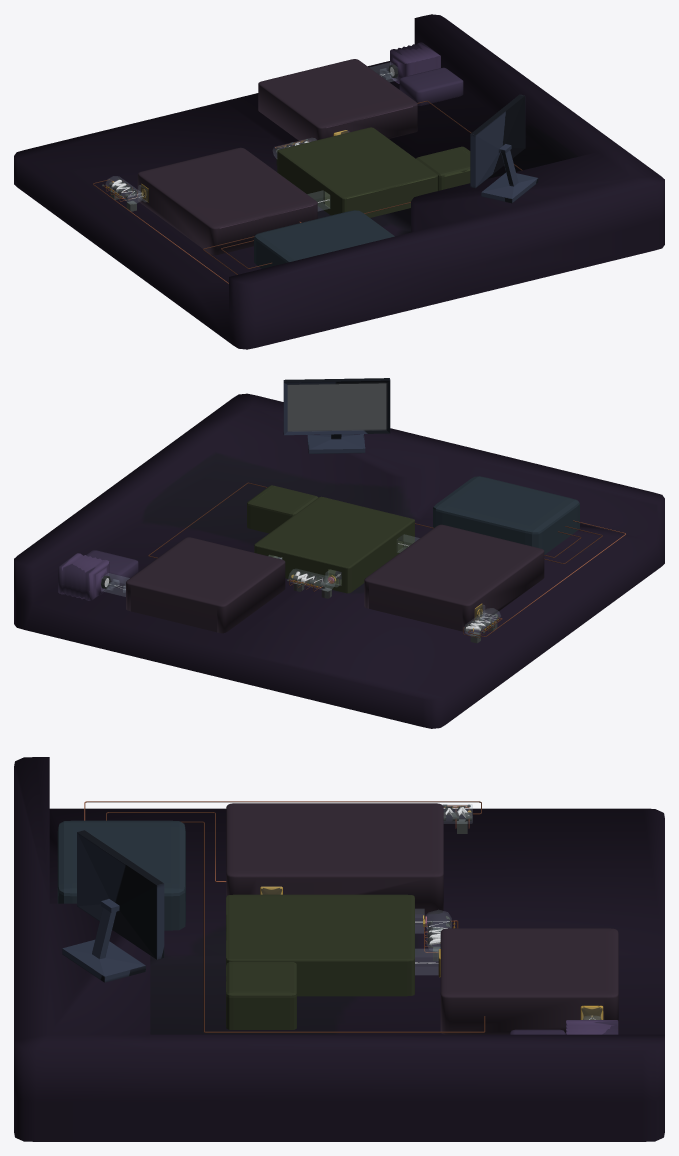
Rendered from spectrofluorometerModel.glb.
3 renders of one model, top to bottom at view 1: azimuth 30°, elevation 25°; view 2: azimuth 150°, elevation 25°; view 3: azimuth 270°, elevation 25°, orthographic. The views are drawn at different scales.
Parts seen in each view (by area): view 1: specBase, EmissionMonoLid, SampleChamberBaseLid, ExciMonoBaseLid, EmissionMono, MonoCompBase, PC, ExciMonoBase, SampleChamberBase, LightSourcePowerSupplyBase, TSideEmissionChannelBaseLid, LightSourceBaseLid (+2 smaller); view 2: specBase, EmissionMonoLid, ExciMonoBaseLid, MonoCompBase, SampleChamberBaseLid, PCScreen, SampleChamberBase, EmissionMono, ExciMonoBase, PC, TSideEmissionChannelBaseLid, LightSourceBaseLid (+2 smaller); view 3: specBase, EmissionMonoLid, SampleChamberBaseLid, ExciMonoBaseLid, PC, ExciMonoBase, MonoCompBase, EmissionMono, SampleChamberBase, TSideEmissionChannelBase, TSideEmissionChannelBaseLid, BaseCircuit3 (+3 smaller).
Part boxes in pixels (box(x1,y1,x2,y2)): specBase: box(14, 14, 664, 349); EmissionMonoLid: box(143, 148, 313, 228); SampleChamberBaseLid: box(280, 127, 435, 198); ExciMonoBaseLid: box(264, 59, 412, 127); EmissionMono: box(137, 147, 317, 255); MonoCompBase: box(254, 210, 394, 268); PC: box(470, 94, 538, 203); ExciMonoBase: box(258, 59, 417, 143); SampleChamberBase: box(277, 127, 437, 217); LightSourcePowerSupplyBase: box(399, 67, 463, 105); TSideEmissionChannelBaseLid: box(421, 147, 470, 176); LightSourceBaseLid: box(390, 42, 440, 65); specBase: box(14, 393, 664, 728); EmissionMonoLid: box(369, 525, 538, 631); ExciMonoBaseLid: box(130, 538, 279, 632); MonoCompBase: box(433, 476, 579, 554); SampleChamberBaseLid: box(257, 497, 411, 568); PCScreen: box(287, 383, 386, 431); SampleChamberBase: box(254, 496, 414, 593); EmissionMono: box(364, 524, 544, 632); ExciMonoBase: box(126, 537, 285, 633); PC: box(283, 378, 390, 453); TSideEmissionChannelBaseLid: box(250, 486, 313, 533); LightSourceBaseLid: box(58, 553, 108, 590); specBase: box(14, 757, 664, 1141); EmissionMonoLid: box(226, 806, 443, 871); SampleChamberBaseLid: box(226, 896, 414, 958); ExciMonoBaseLid: box(440, 931, 618, 992); PC: box(62, 830, 164, 982); ExciMonoBase: box(440, 928, 618, 1034); MonoCompBase: box(57, 820, 185, 930); EmissionMono: box(226, 803, 443, 914); SampleChamberBase: box(226, 894, 414, 996); TSideEmissionChannelBase: box(226, 962, 296, 1029); TSideEmissionChannelBaseLid: box(226, 963, 296, 993); BaseCircuit3: box(181, 821, 485, 1032).
Bounding box in the file's own units: 16 × 4.9 × 15.
Materials: 13 (6 with a texture image).
